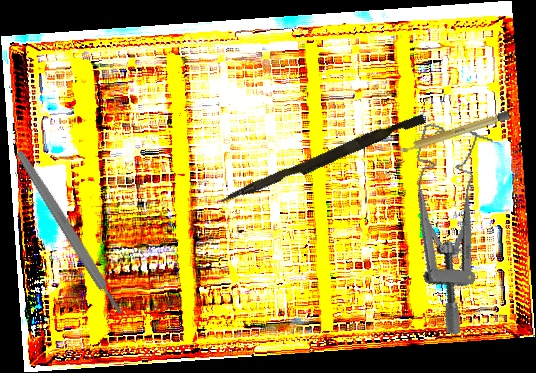Pusher: (219, 108, 426, 212)
Scalpel Handle: (13, 148, 126, 318), (396, 109, 512, 156)
Speculum: (377, 120, 510, 336)
